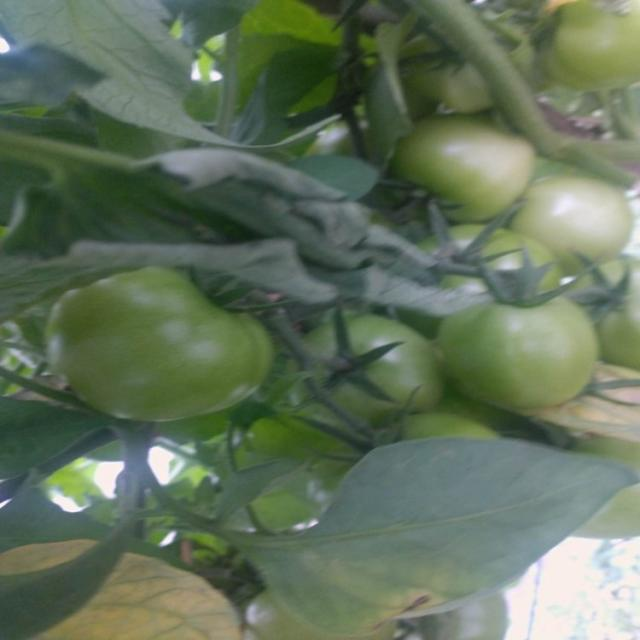tomato: (47, 258, 257, 409), (325, 109, 530, 230), (435, 292, 587, 413), (243, 400, 383, 522), (397, 225, 561, 324), (284, 316, 435, 417), (508, 167, 636, 268), (392, 26, 527, 119), (530, 3, 640, 92), (569, 252, 640, 373)
